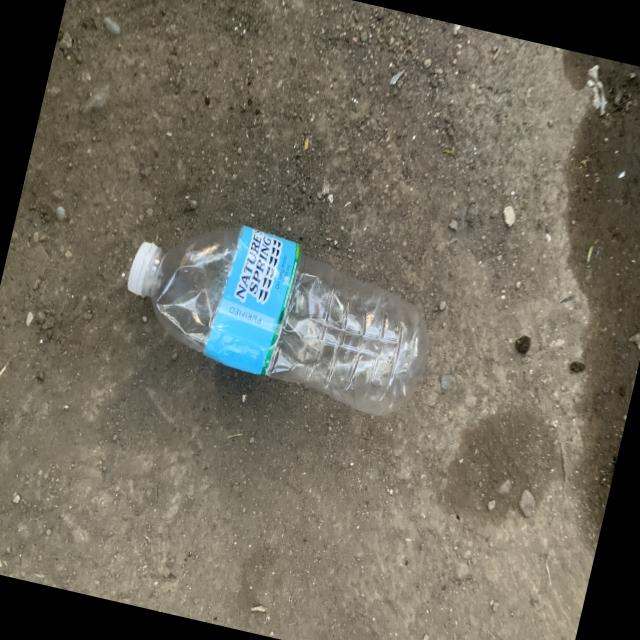Bottle: (127, 225, 427, 414)
